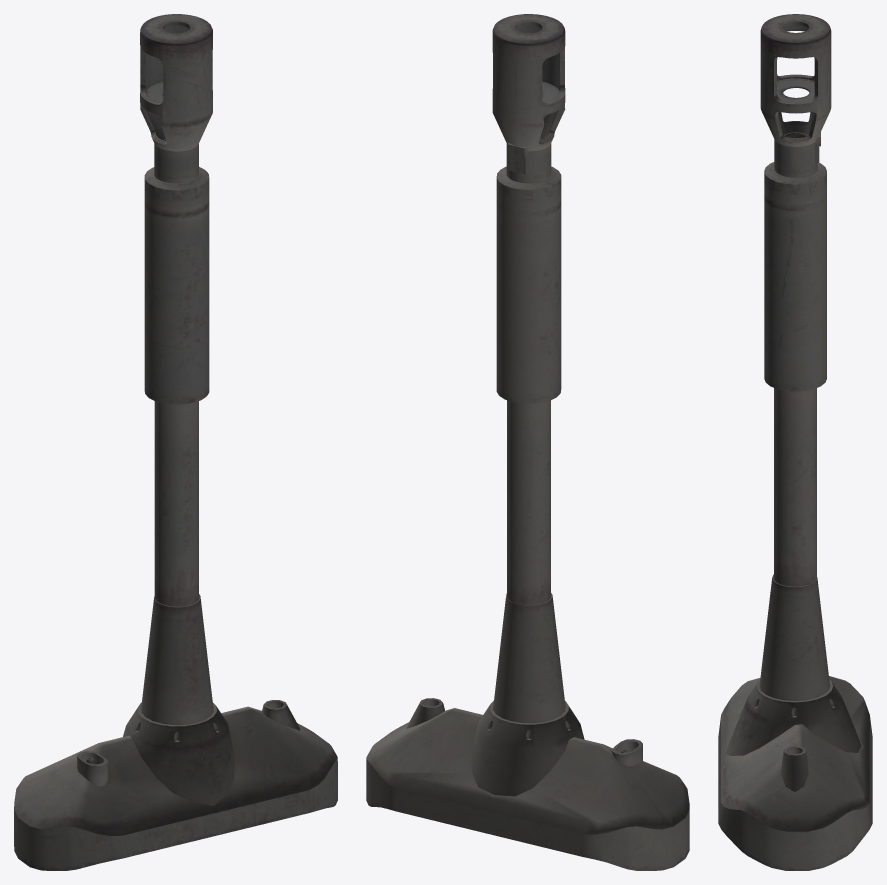
File: Gun_01.glb
The picture shows the model from 3 angles, left to right: view 1: azimuth 30°, elevation 25°; view 2: azimuth 150°, elevation 25°; view 3: azimuth 270°, elevation 25°; orthographic projection. The views are drawn at different scales.
Parts seen in each view (by area): view 1: set_0_group_0; view 2: set_0_group_0; view 3: set_0_group_0.
Boxes of the visible parts, x1,y1,x2,y2 form: set_0_group_0: (14, 14, 337, 870); set_0_group_0: (366, 14, 689, 870); set_0_group_0: (718, 14, 872, 870).
Bounding box in the file's own units: 1.15 × 2.89 × 0.5235.
1 material, 1 textured.
